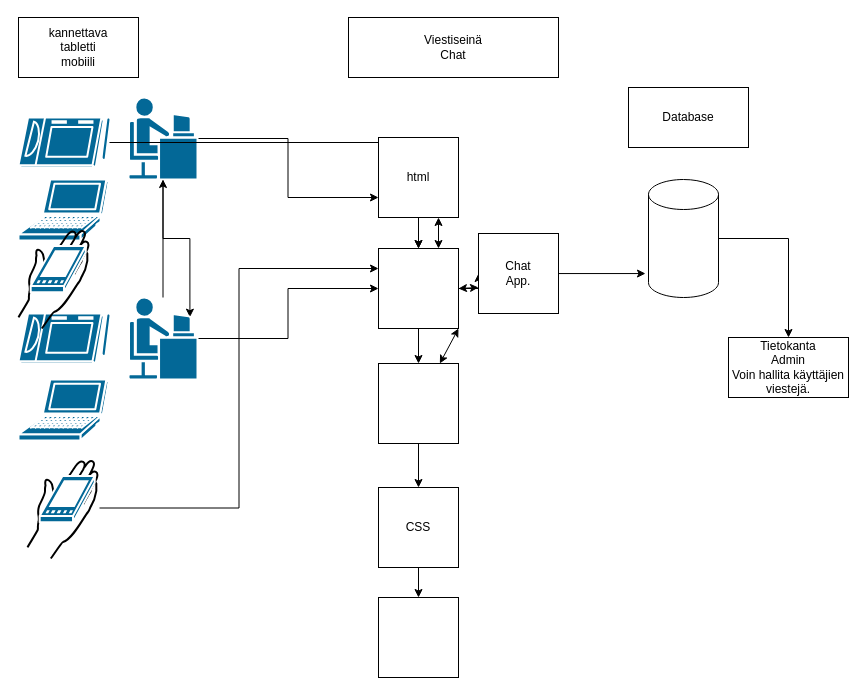
Image size: 866x695. Some labels were removed from this diagram. Each missing label, with the centre of its shape:
jpg img: point 418,637
JS: point 418,403
PHP: point 418,288
Tietokanta SQL: point 683,238
